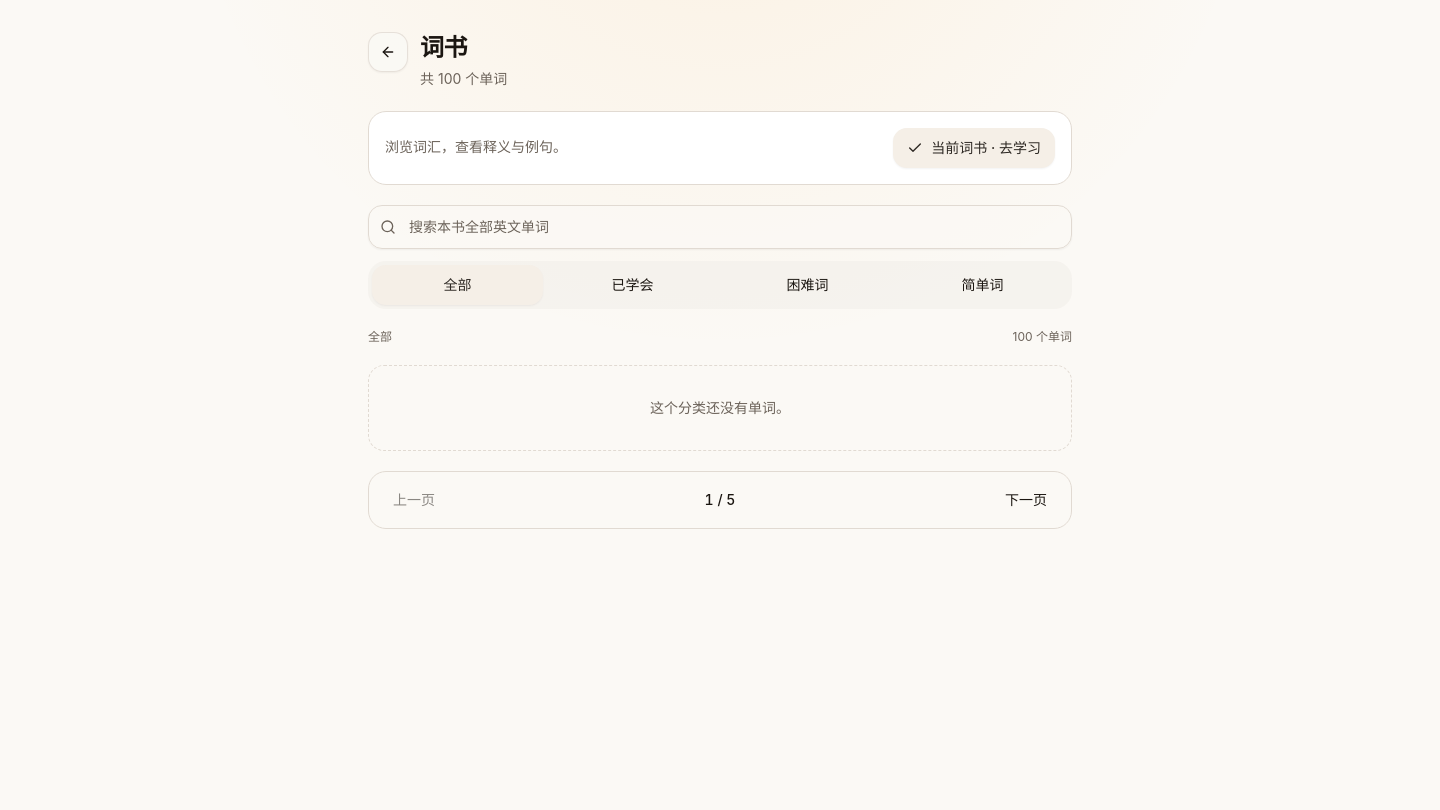
Test: BookDetailPage › jumps to an explicitly selected valid page
This screenshot has width=1440, height=810.
Click the button named "跳转页码" at [720, 500], box [697,480,744,520]
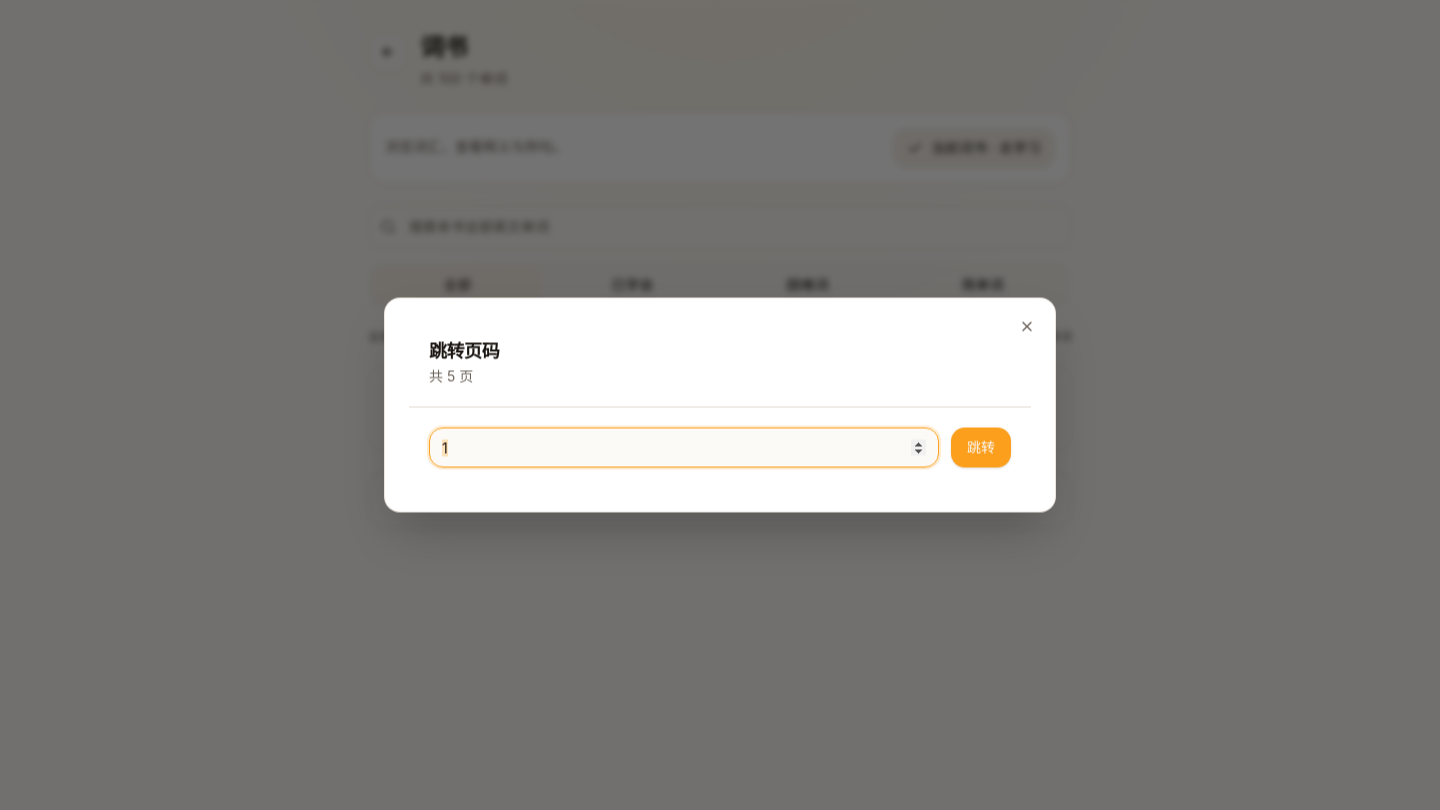
Replace the text in the number field named "页码" with "4" at [684, 448], box [429,428,939,468]
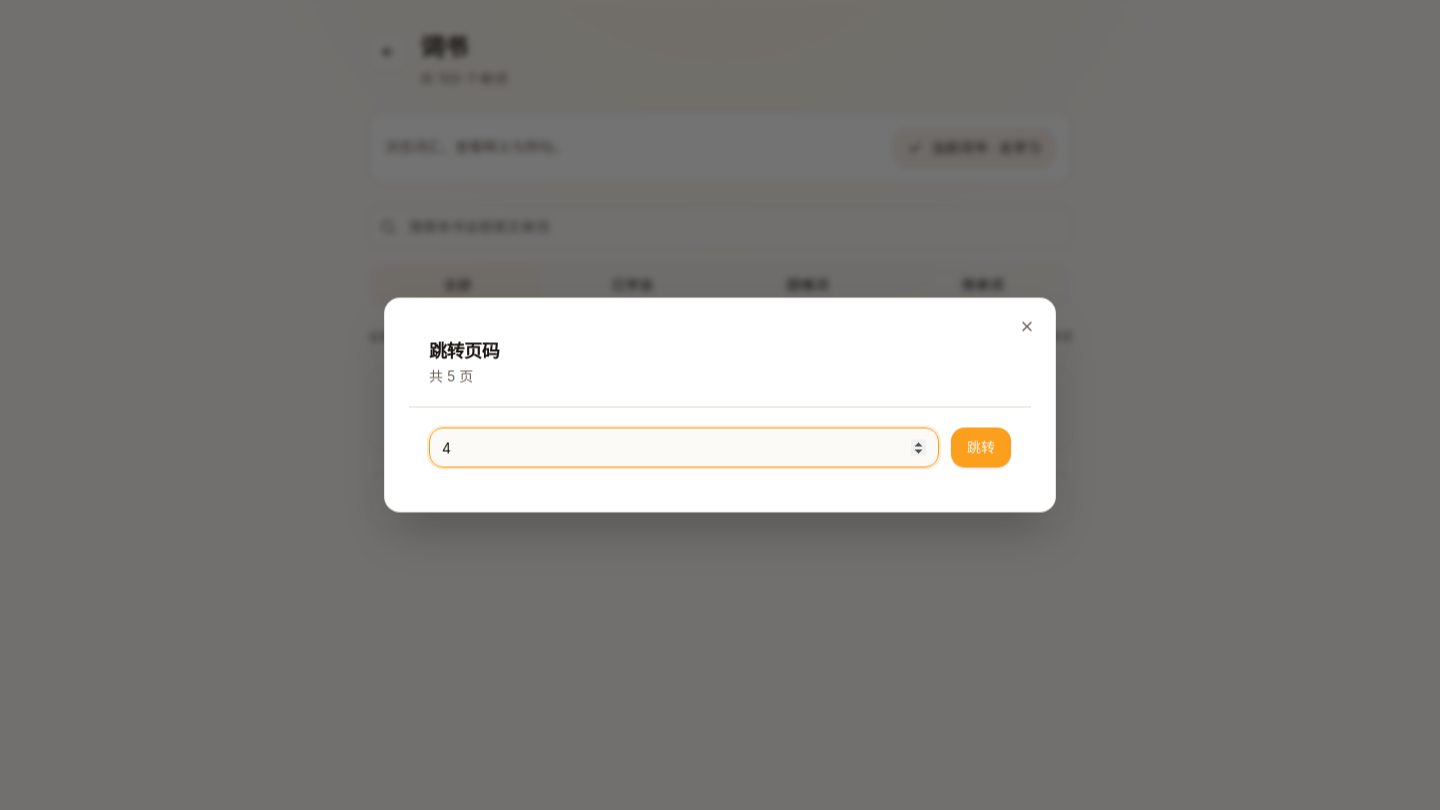
Click the button "跳转" at [981, 448], box [951,428,1011,468]
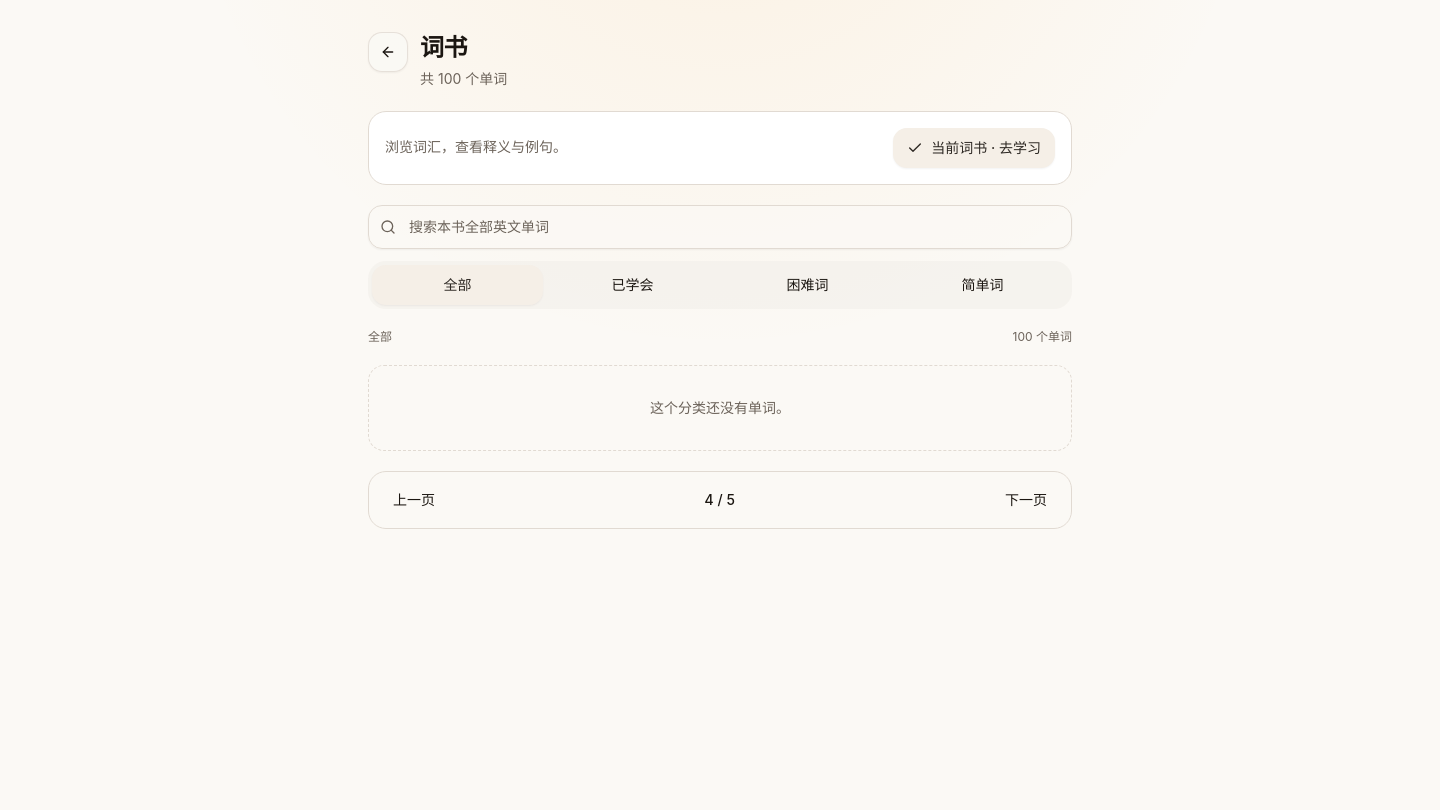
Expected: the dialog is gone
